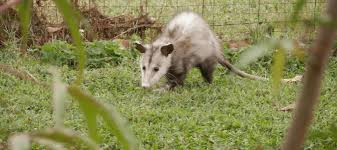opossum: (134, 11, 306, 92)
